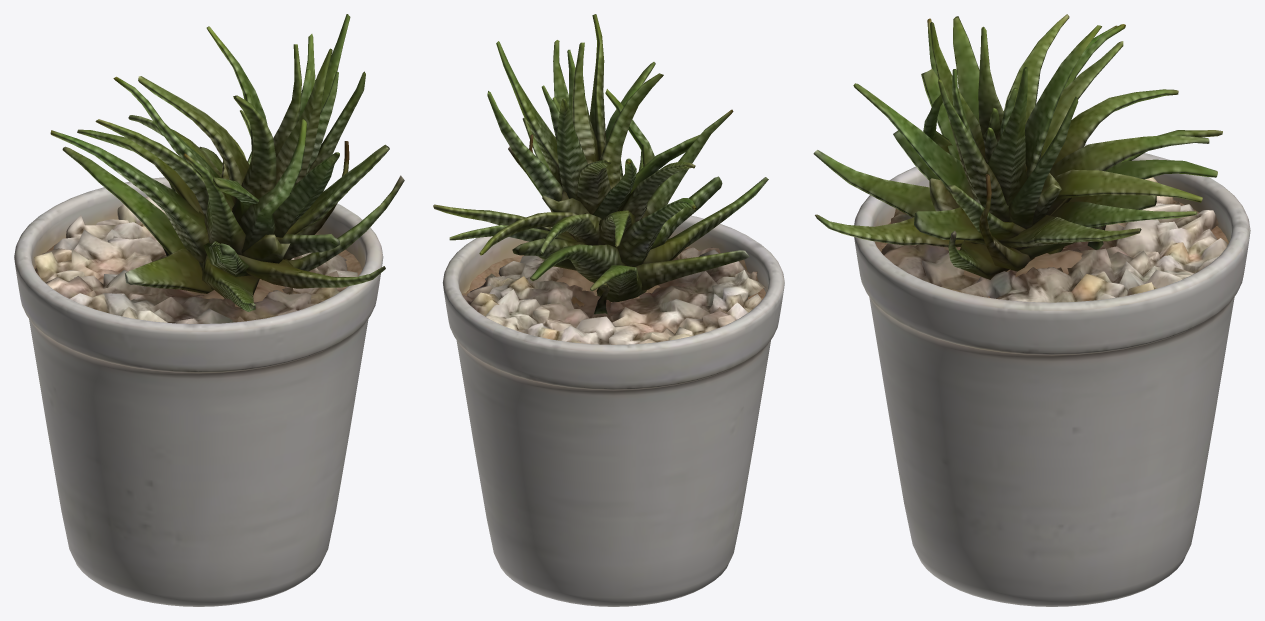
File: potted_plant_04.glb
3 renders of one model, left to right at view 1: azimuth 30°, elevation 25°; view 2: azimuth 150°, elevation 25°; view 3: azimuth 270°, elevation 25°, orthographic. The views are drawn at different scales.
Visible parts, largest first — view 1: potted_plant_04_ground; view 2: potted_plant_04_ground; view 3: potted_plant_04_ground.
Part boxes in pixels (bbox=[...]): potted_plant_04_ground: bbox=[14, 14, 404, 606]; potted_plant_04_ground: bbox=[433, 14, 784, 606]; potted_plant_04_ground: bbox=[813, 14, 1250, 606].
Bounding box in the file's own units: 0.1679 × 0.2675 × 0.1847.
Materials: 1 (1 with a texture image).
